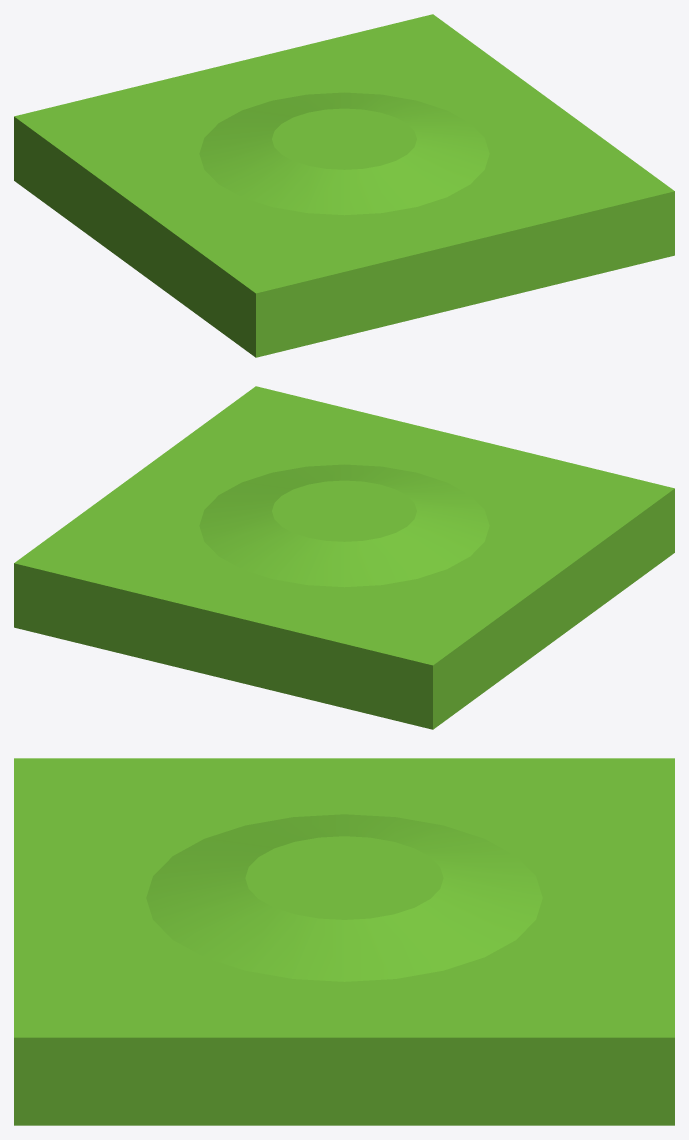
File: Bump.FBX
The picture shows the model from 3 angles, top to bottom: view 1: azimuth 30°, elevation 25°; view 2: azimuth 150°, elevation 25°; view 3: azimuth 270°, elevation 25°; orthographic projection. The views are drawn at different scales.
Parts seen in each view (by area): view 1: Bump_01; view 2: Bump_01; view 3: Bump_01.
Part boxes in pixels (box(x1,y1,x2,y2)): Bump_01: box(14, 14, 674, 357); Bump_01: box(14, 386, 674, 729); Bump_01: box(14, 758, 674, 1125).
Size of the model in its own units: 0.9999 by 0.9999 by 0.18.
